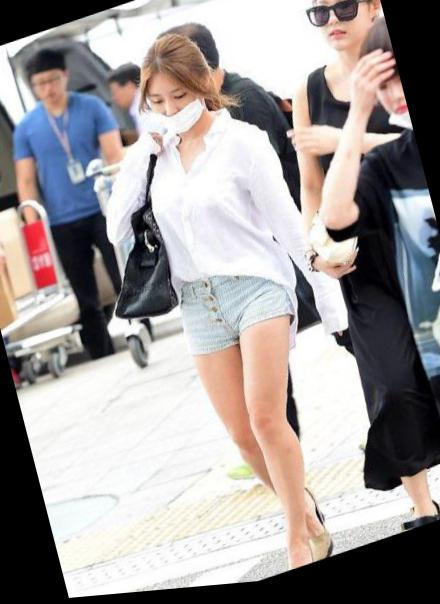NONE: (312, 1, 371, 62), (32, 67, 69, 110)
WRONG: (147, 76, 210, 143), (375, 85, 415, 153)
